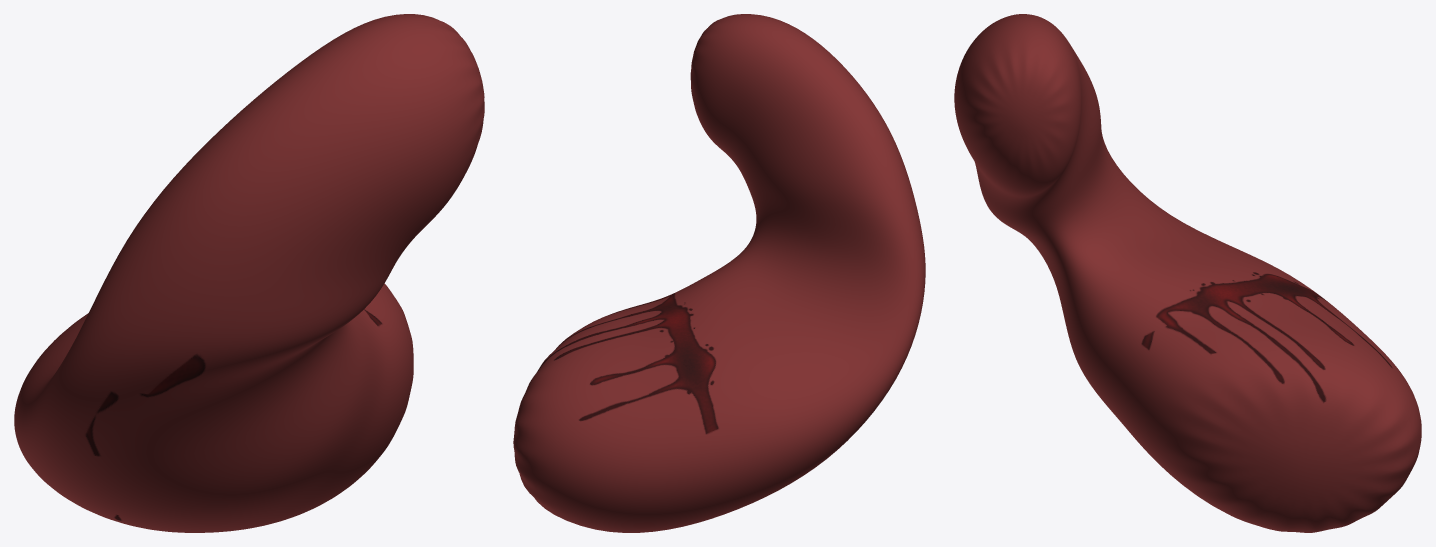
The model's file is kidney.fbx.
The picture shows the model from 3 angles, left to right: view 1: azimuth 30°, elevation 25°; view 2: azimuth 150°, elevation 25°; view 3: azimuth 270°, elevation 25°; orthographic projection. The views are drawn at different scales.
Parts seen in each view (by area): view 1: pTorus2; view 2: pTorus2; view 3: pTorus2.
Part boxes in pixels (x1,y1,x2,y2): pTorus2: (14,14,484,532); pTorus2: (513,14,925,532); pTorus2: (954,14,1421,532).
Size of the model in its own units: 0.8364 by 1.13 by 0.9885.
1 material, 1 textured.
